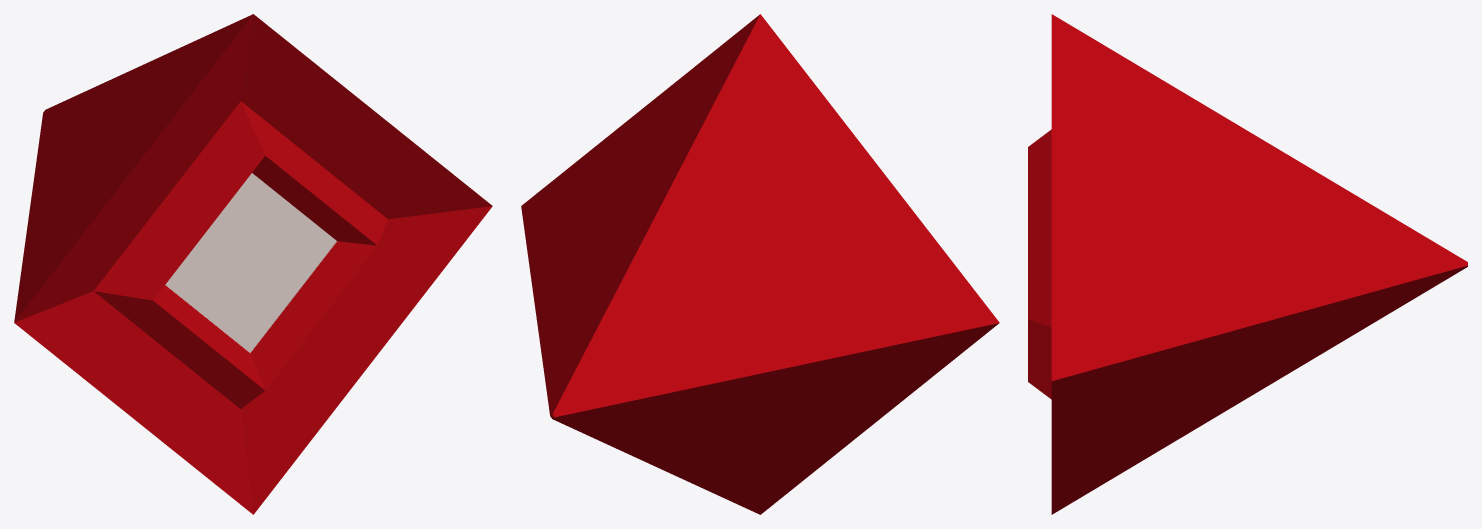
The model's file is Drone.fbx.
3 views of the same model, side by side, from view 1: azimuth 30°, elevation 25°; view 2: azimuth 150°, elevation 25°; view 3: azimuth 270°, elevation 25° (orthographic).
Parts seen in each view (by area): view 1: Cube; view 2: Cube; view 3: Cube.
Part boxes in pixels (x1,y1,x2,y2): Cube: (14,14,492,514); Cube: (521,14,999,514); Cube: (1028,14,1467,514).
Bounding box in the file's own units: 198 × 198 × 158.
